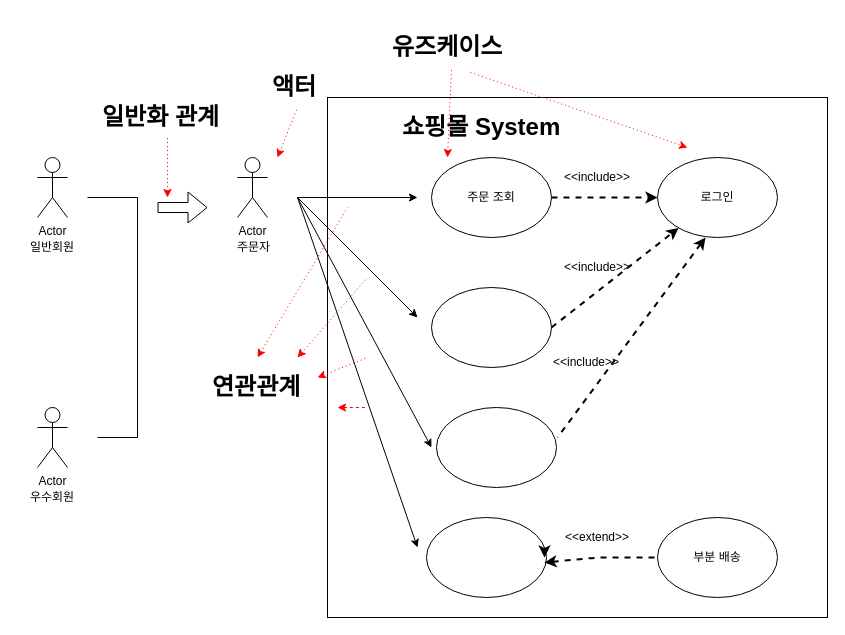
Image size: 845x635. Some labels were removed from this diagram. Each missing label, with the centre of its shape:
"리뷰 등록" belongs at (496,447).
"주문 배송" belongs at (486,557).
"회원정보 수정" belongs at (491,327).
